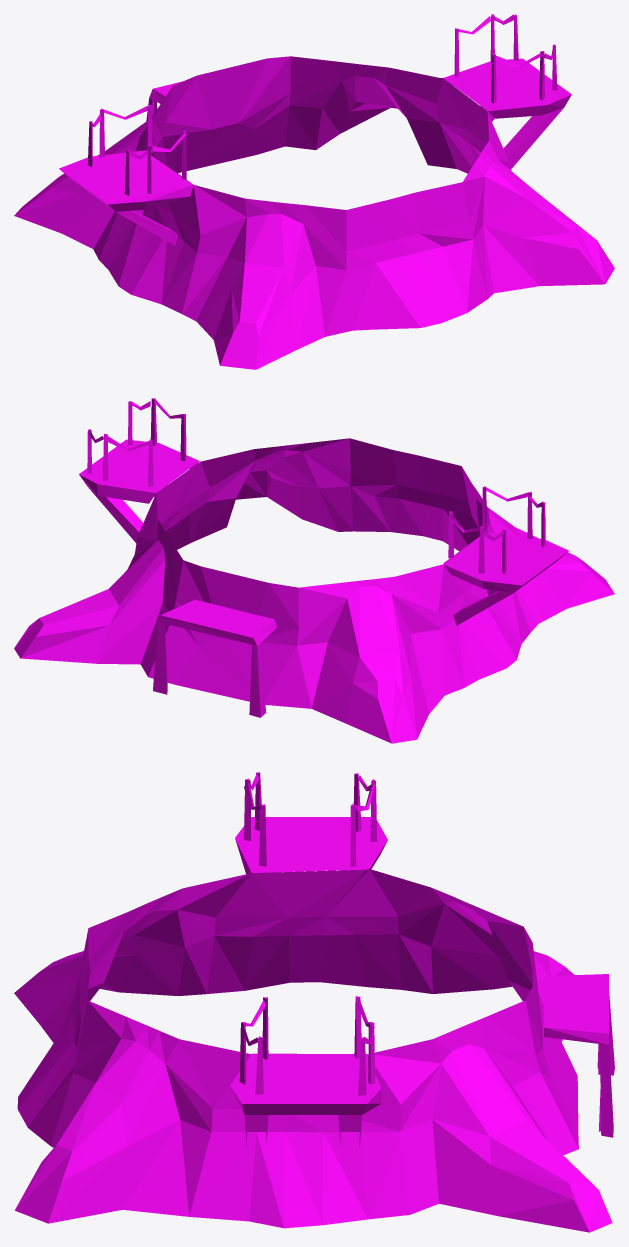
The model's file is grand treeinside-lev 0.obj.
3 renders of one model, top to bottom at view 1: azimuth 30°, elevation 25°; view 2: azimuth 150°, elevation 25°; view 3: azimuth 270°, elevation 25°, orthographic. The views are drawn at different scales.
Visible parts, largest first — view 1: grand treeinside-lev 0_back; view 2: grand treeinside-lev 0_back; view 3: grand treeinside-lev 0_back.
Boxes of the visible parts, x1,y1,x2,y2 form: grand treeinside-lev 0_back: [14, 14, 614, 369]; grand treeinside-lev 0_back: [14, 398, 614, 743]; grand treeinside-lev 0_back: [14, 772, 614, 1232].
Bounding box in the file's own units: 11.3 × 3.8 × 10.01.
